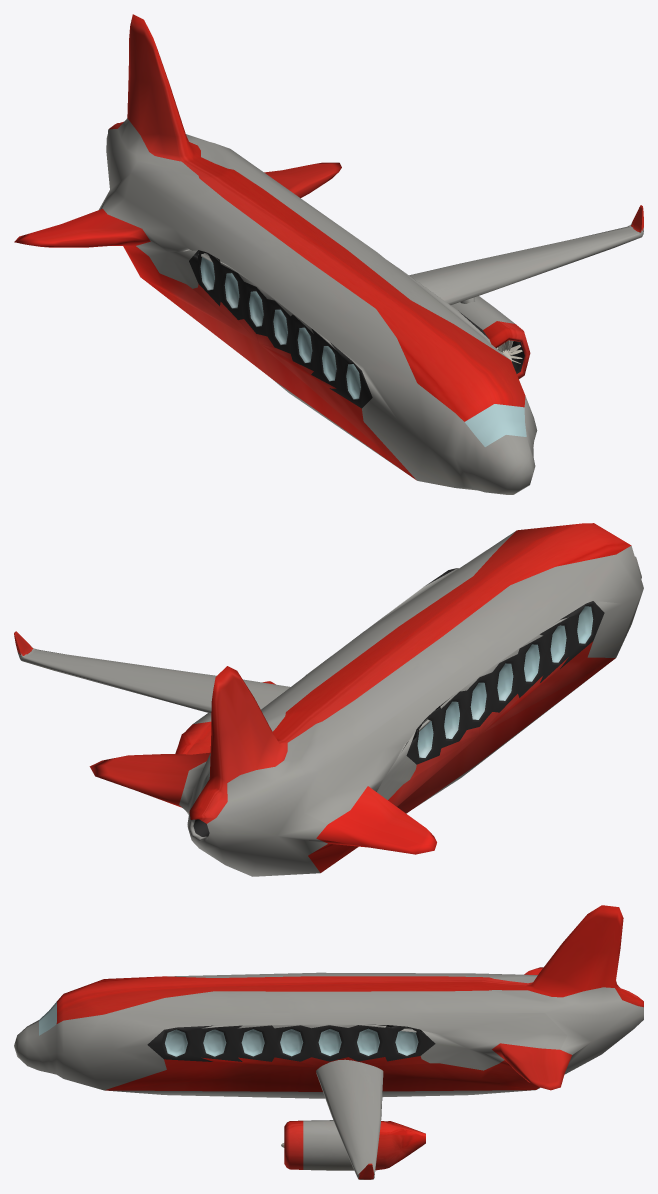
Rendered from Airplane_Body.fbx.
The picture shows the model from 3 angles, top to bottom: view 1: azimuth 30°, elevation 25°; view 2: azimuth 150°, elevation 25°; view 3: azimuth 270°, elevation 25°; orthographic projection. The views are drawn at different scales.
Visible parts, largest first — view 1: Aiplane_Body, Airplane_wing:Wing, Airplane_wing:Engine; view 2: Aiplane_Body, Airplane_wing:Wing, Airplane_wing:Engine; view 3: Aiplane_Body, Airplane_wing:Wing, Airplane_wing:Engine.
Boxes of the visible parts, bbox=[...] form: Aiplane_Body: bbox=[14, 14, 537, 494]; Airplane_wing:Wing: bbox=[409, 205, 643, 305]; Airplane_wing:Engine: bbox=[451, 296, 530, 378]; Aiplane_Body: bbox=[89, 523, 643, 876]; Airplane_wing:Wing: bbox=[14, 631, 290, 713]; Airplane_wing:Engine: bbox=[175, 681, 275, 754]; Aiplane_Body: bbox=[14, 905, 643, 1098]; Airplane_wing:Wing: bbox=[316, 1059, 383, 1179]; Airplane_wing:Engine: bbox=[281, 1120, 425, 1170].
Size of the model in its own units: 47.2 by 23.01 by 64.69.
